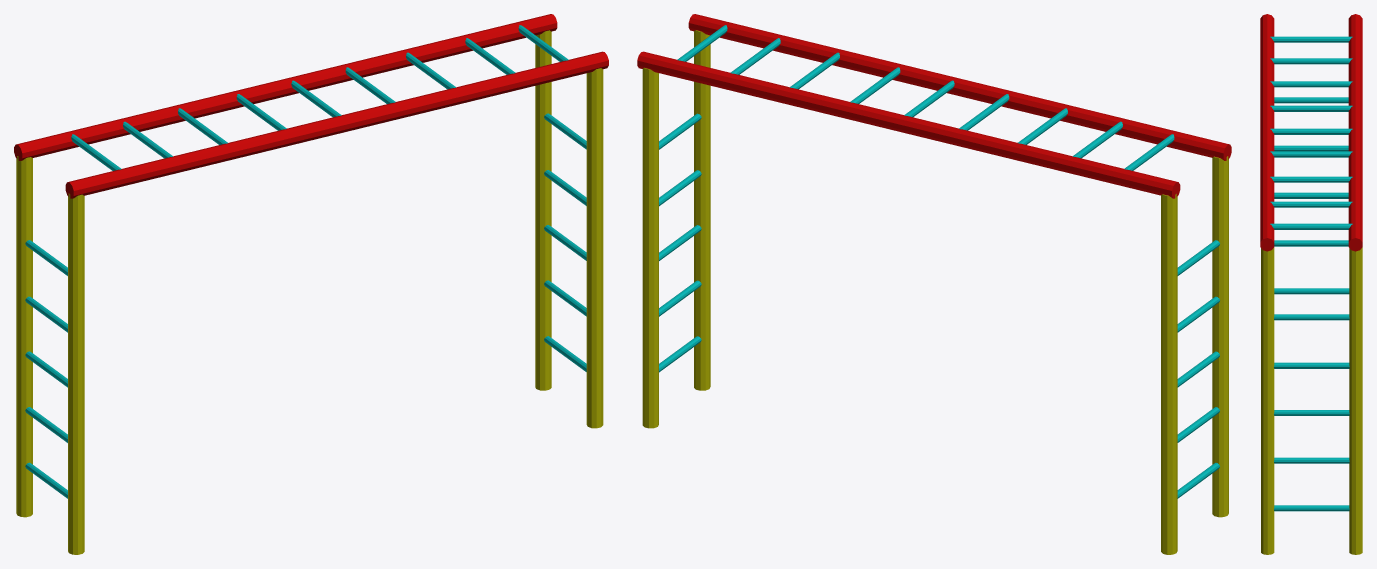
The model's file is MonkeyBars.fbx.
3 views of the same model, side by side, from view 1: azimuth 30°, elevation 25°; view 2: azimuth 150°, elevation 25°; view 3: azimuth 270°, elevation 25° (orthographic). The views are drawn at different scales.
Visible parts, largest first — view 1: pCylinder128; view 2: pCylinder128; view 3: pCylinder128.
Boxes of the visible parts, <box> form: pCylinder128: <box>14,14,608,554</box>; pCylinder128: <box>637,14,1231,554</box>; pCylinder128: <box>1260,14,1362,554</box>.
Size of the model in its own units: 4.77 by 3.15 by 0.9218.
